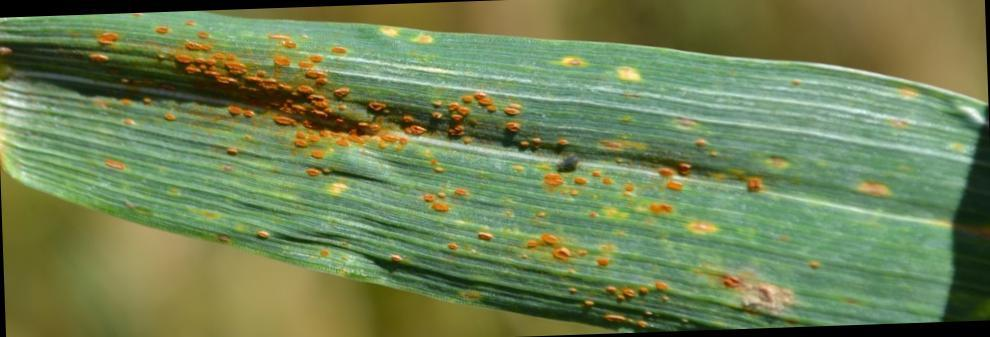Wheat: (432, 61, 702, 276), (713, 125, 944, 316), (264, 45, 419, 229), (78, 28, 257, 173), (593, 280, 685, 324)
